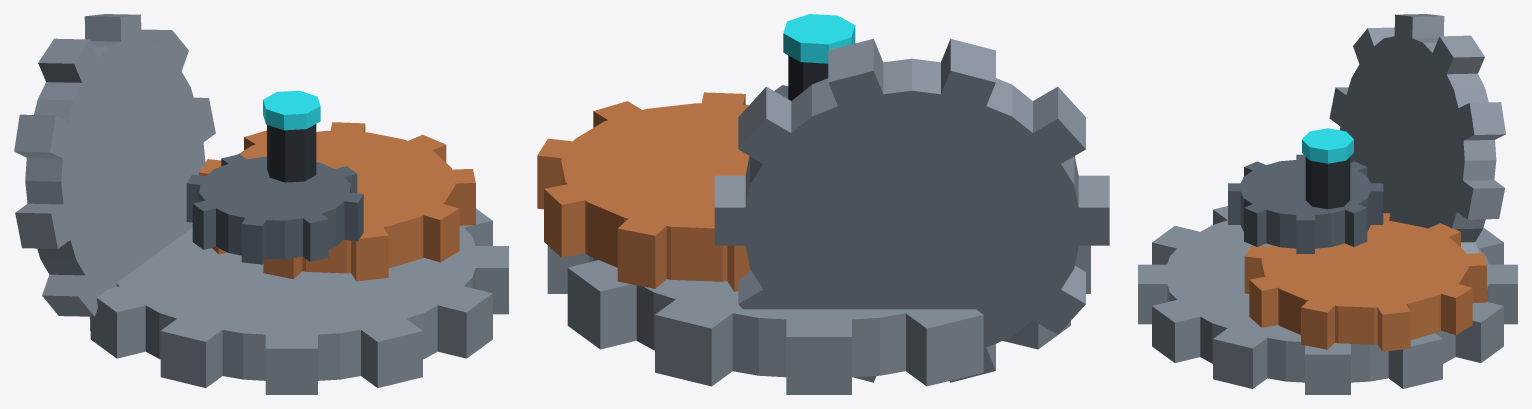
File: GearStack.fbx
3 renders of one model, left to right at view 1: azimuth 30°, elevation 25°; view 2: azimuth 150°, elevation 25°; view 3: azimuth 270°, elevation 25°, orthographic. The views are drawn at different scales.
Parts seen in each view (by area): view 1: GearStack, GearStack_Glow; view 2: GearStack, GearStack_Glow; view 3: GearStack, GearStack_Glow.
Part boxes in pixels (box(x1,y1,x2,y2)): GearStack: box(14, 14, 508, 394); GearStack_Glow: box(263, 90, 320, 130); GearStack: box(537, 39, 1109, 394); GearStack_Glow: box(783, 14, 855, 63); GearStack: box(1138, 14, 1517, 394); GearStack_Glow: box(1302, 128, 1353, 163).
Bounding box in the file's own units: 600 × 369 × 510.
1 material, 1 textured.
